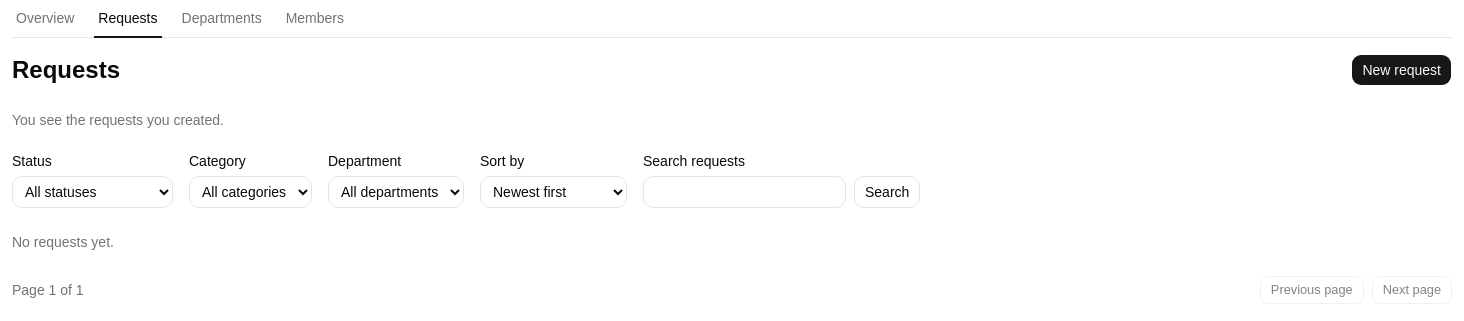
Test: RequestsPage › explains an empty list differently when filters are active
The width and height of the screenshot is (1464, 321).
Check: the text "No requests yet." is shown, box [12,234,114,250]
Select "Approved" in the dropdown labelled "Status" at (92,192), box [12,176,173,208]
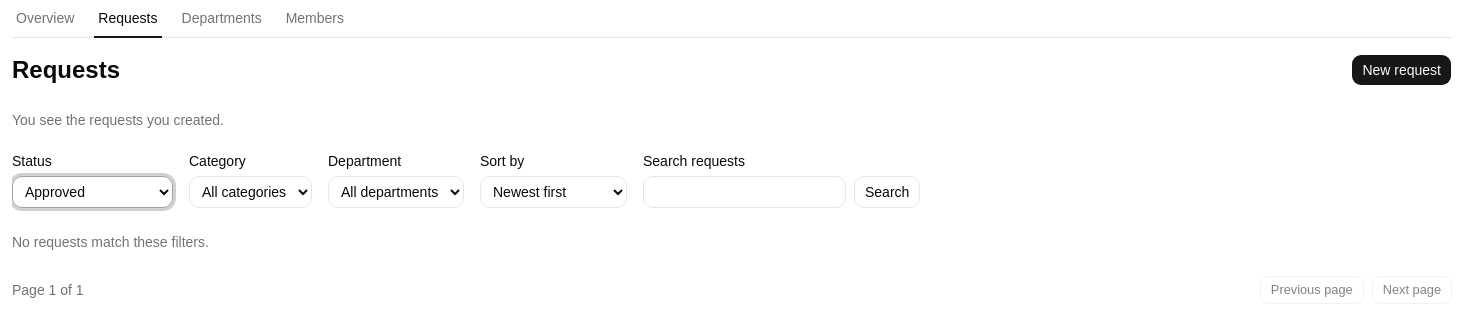
Check: the text "No requests match these filters." is shown, box [12,234,209,250]
